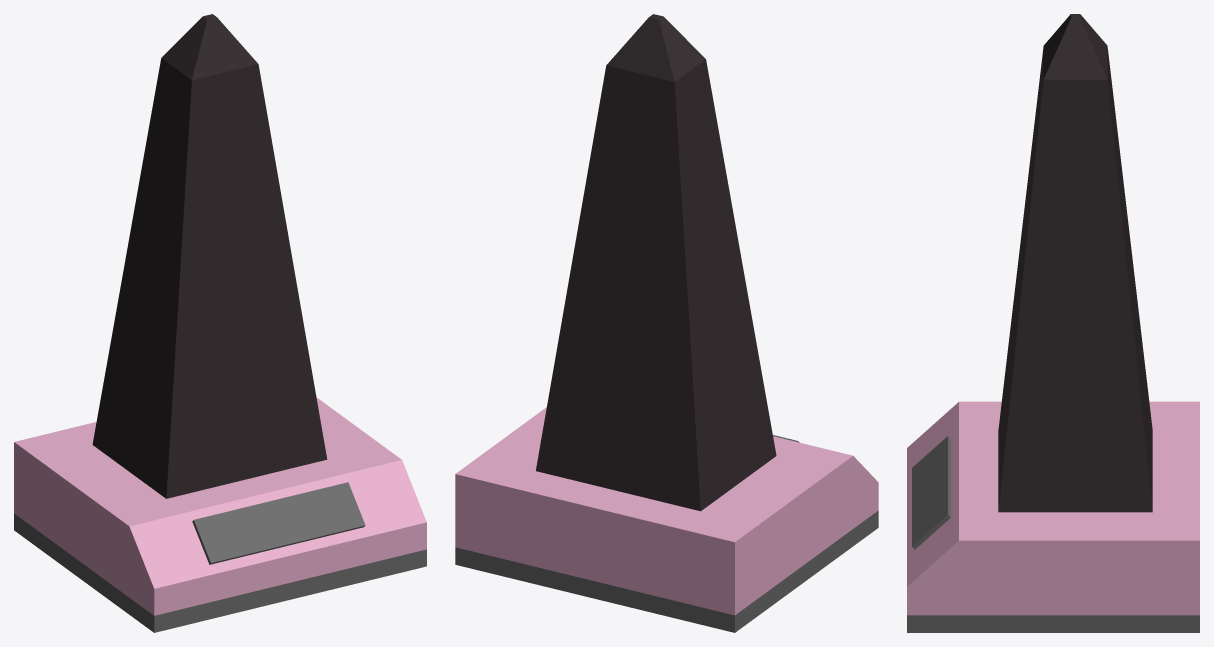
Rendered from gravestoneObelisk.fbx.
3 renders of one model, left to right at view 1: azimuth 30°, elevation 25°; view 2: azimuth 150°, elevation 25°; view 3: azimuth 270°, elevation 25°, orthographic. The views are drawn at different scales.
Parts seen in each view (by area): view 1: Gravestone Obelisk; view 2: Gravestone Obelisk; view 3: Gravestone Obelisk.
Boxes of the visible parts, left/top/right/bottom form: Gravestone Obelisk: left=14, top=14, right=426, bottom=632; Gravestone Obelisk: left=455, top=14, right=878, bottom=632; Gravestone Obelisk: left=907, top=14, right=1199, bottom=632.
Size of the model in its own units: 79.6 by 146 by 70.87.
